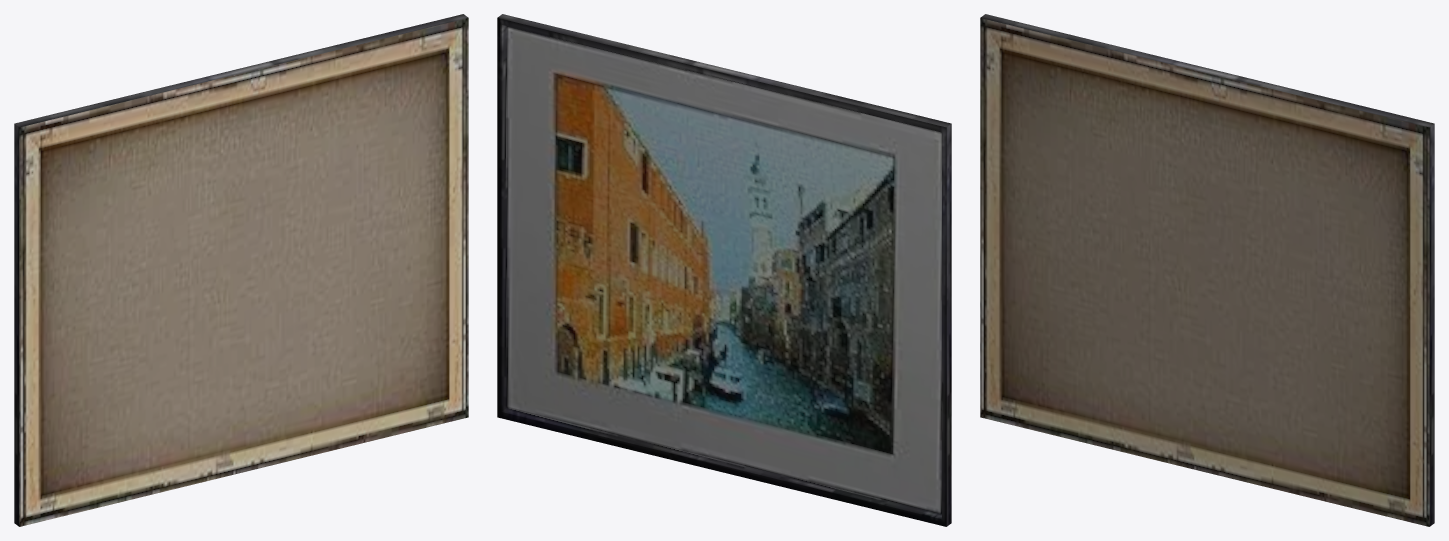
The model's file is offpaintingk.glb.
The picture shows the model from 3 angles, left to right: view 1: azimuth 30°, elevation 25°; view 2: azimuth 150°, elevation 25°; view 3: azimuth 330°, elevation 25°; orthographic projection.
Visible parts, largest first — view 1: 0_Poster_backing, 1_offpaintingk; view 2: 1_offpaintingk; view 3: 0_Poster_backing, 1_offpaintingk.
Boxes of the visible parts, <box> form: 0_Poster_backing: <box>19,18,468,526</box>; 1_offpaintingk: <box>14,14,468,526</box>; 1_offpaintingk: <box>497,14,951,526</box>; 0_Poster_backing: <box>980,18,1429,526</box>; 1_offpaintingk: <box>980,14,1434,526</box>.
Bounding box in the file's own units: 0.8777 × 0.7458 × 0.0178.
2 materials, 2 textured.
